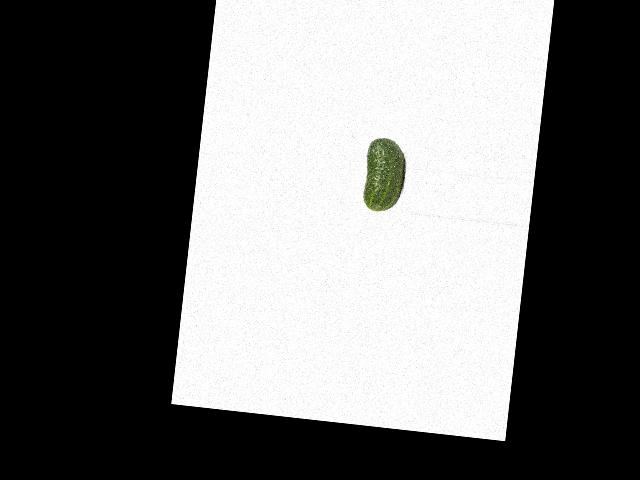cucumber: (362, 136, 408, 213)
